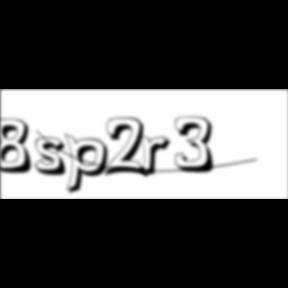2: (103, 117, 153, 181)
3: (175, 116, 221, 176)
8: (0, 117, 38, 176)
p: (65, 132, 115, 198)
r: (139, 134, 177, 180)
s: (34, 137, 74, 179)
